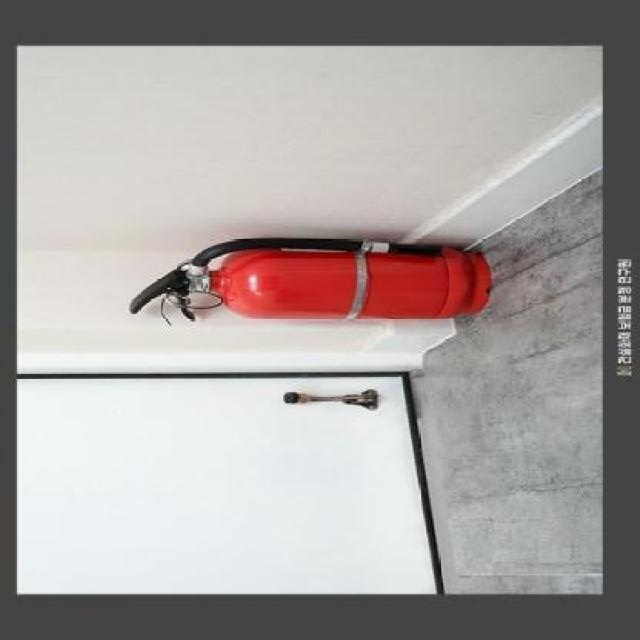fire extinguisher: (127, 239, 491, 326)
